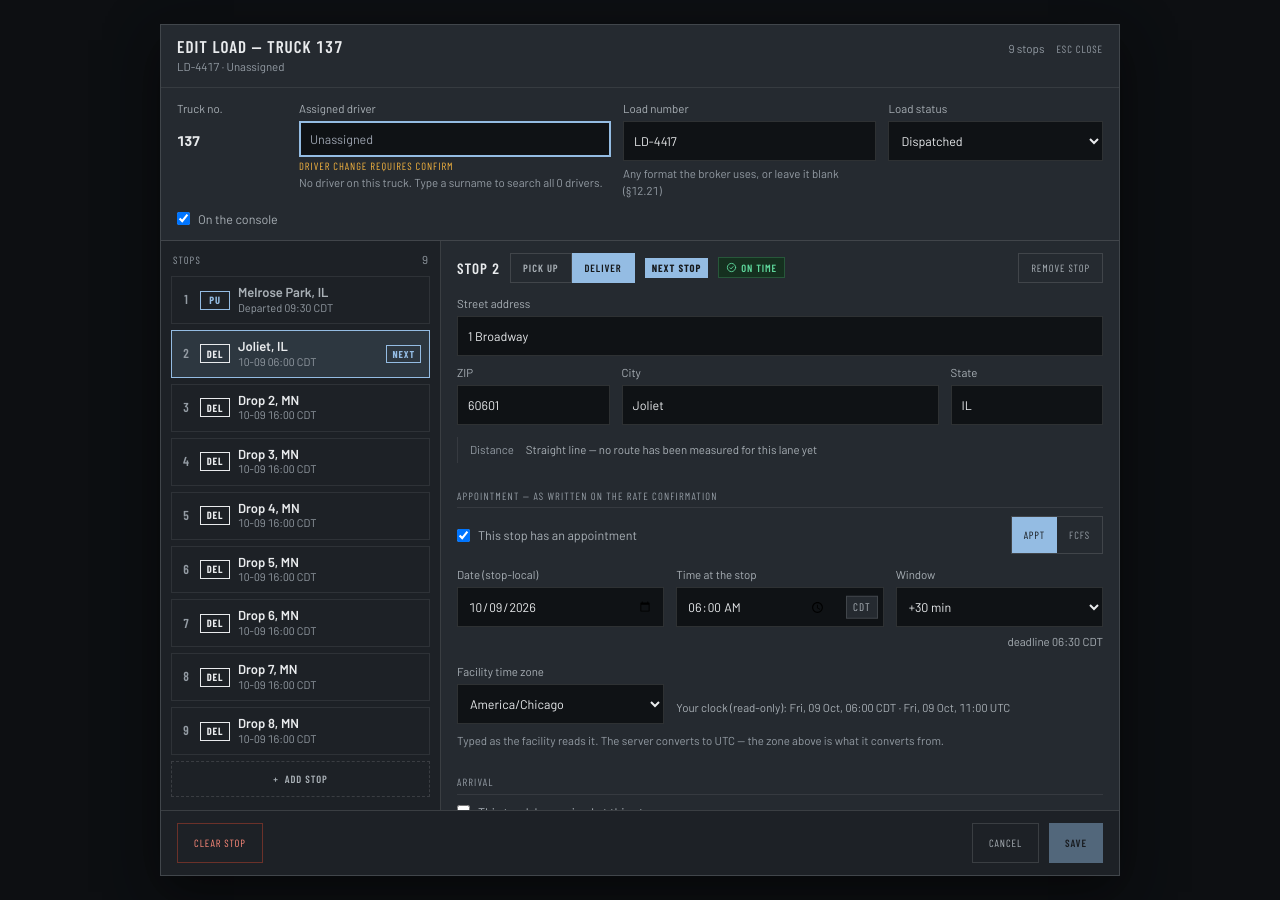
Test: Add stop (§12.119) › is off at ten stops, and says why
This screenshot has width=1280, height=900.
Click the button "+ Add stop". click: coordinates (300, 779)
box: x1=171 y1=761 x2=430 y2=797
(page scrolled)
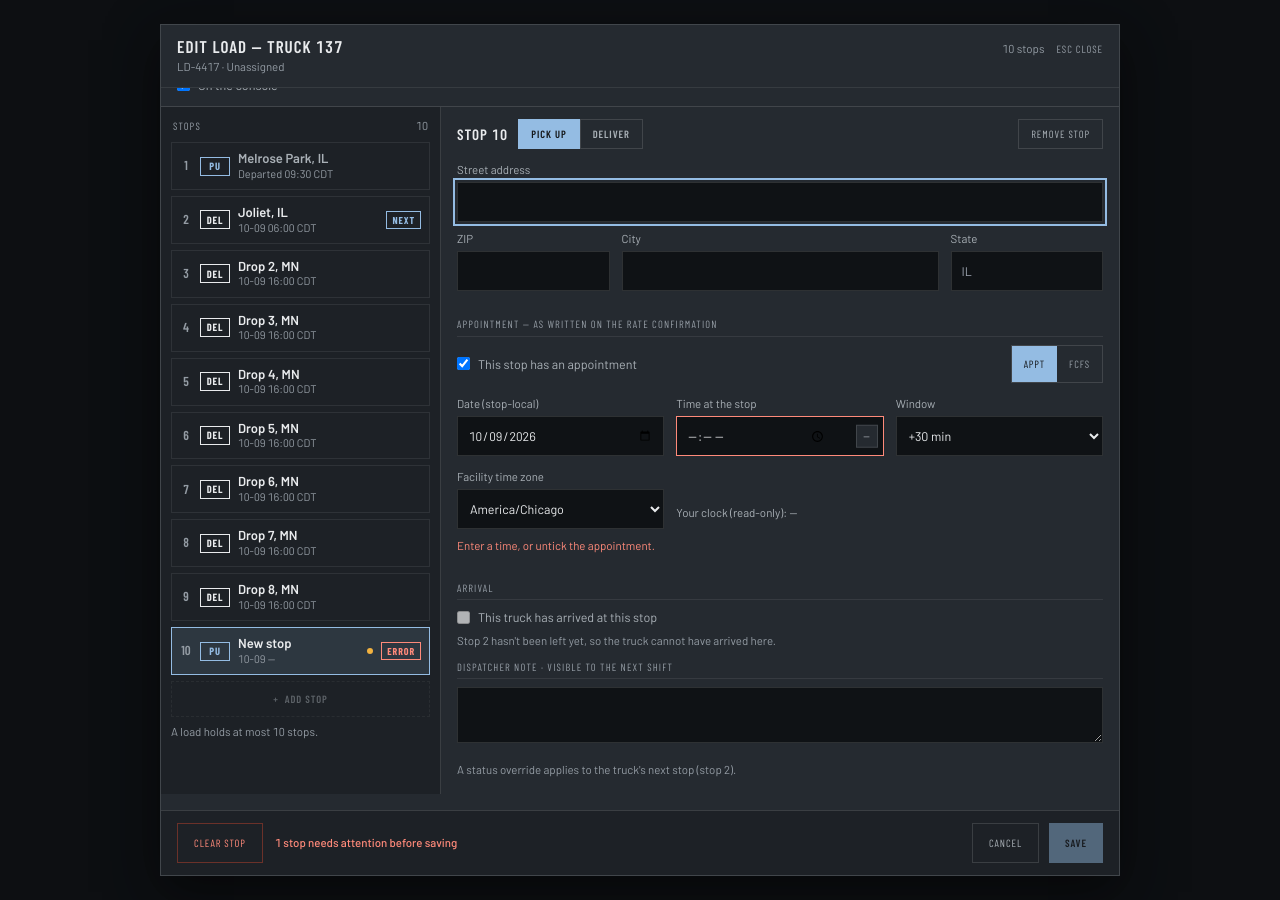
expect the button "+ Add stop" is disabled: met, box x1=171 y1=681 x2=430 y2=717
expect the text "A load holds at most 10 stops." is shown: met, box x1=171 y1=724 x2=318 y2=738
